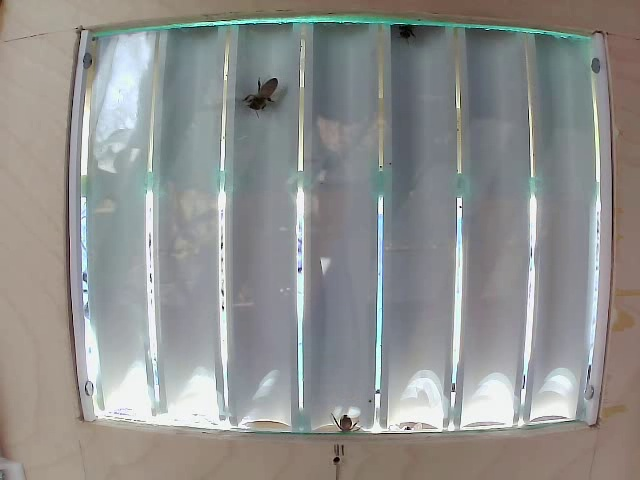bee: (238, 73, 287, 113)
